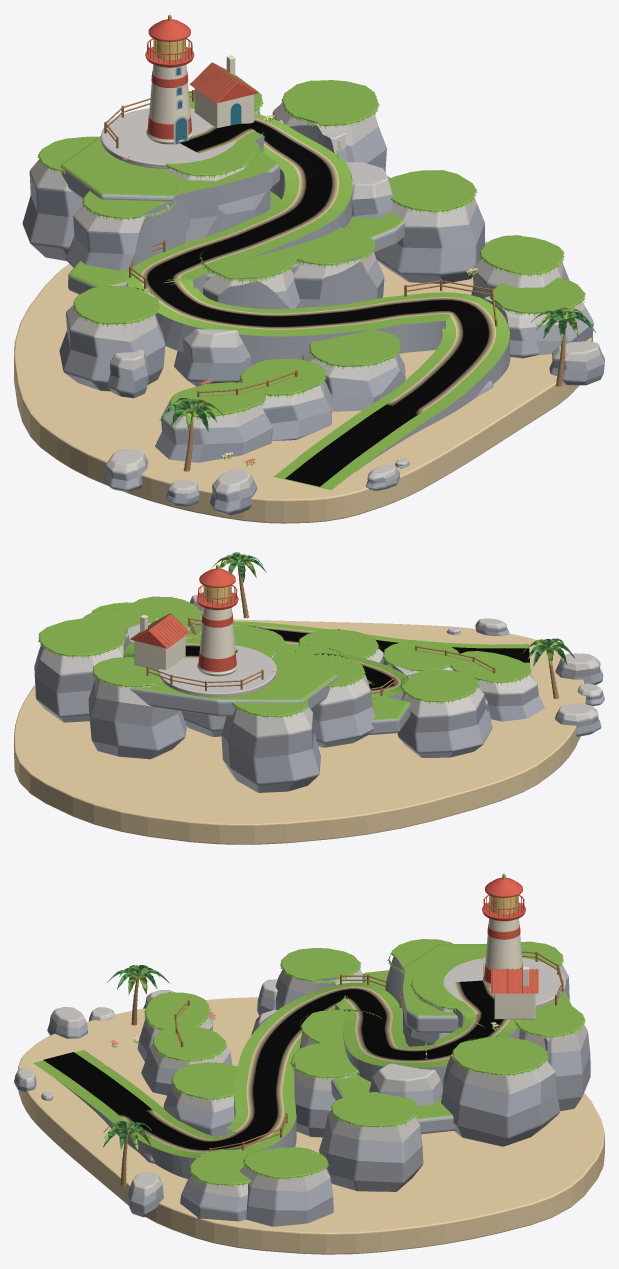
File: CoastArchitecture.fbx
3 views of the same model, one above another, from view 1: azimuth 30°, elevation 25°; view 2: azimuth 150°, elevation 25°; view 3: azimuth 270°, elevation 25° (orthographic). The views are drawn at different scales.
Visible parts, largest first — view 1: Beach sand foundation, Sandy mountain footpath, Natural grass shoulders, Upper meadow, Cliff • Eastern wall, Cliff • Upper shoulder, Cliff • Mid left, Cliff • Foreland left, Cliff • Rear left, Cliff • Mid right, Lighthouse dressed stone podium, Cliff • Upper east mossy grass crown (+34 smaller); view 2: Beach sand foundation, Cliff • Rear left, Cliff • Rear east, Upper meadow, Cliff • Mid left, Cliff • Upper east, Lighthouse dressed stone podium, Cliff • Upper shoulder, Cliff • Upper east mossy grass crown, Natural grass shoulders, Cliff • Foreland left, Sandy mountain footpath (+23 smaller); view 3: Beach sand foundation, Sandy mountain footpath, Natural grass shoulders, Cliff • Upper east, Cliff • Eastern wall, Cliff • Eastern toe, Upper meadow, Cliff • Rear east, Cliff • Upper east mossy grass crown, Cliff • Eastern wall mossy grass crown, Cliff • Foreland right, Cliff • Foreland inner (+28 smaller).
Part boxes in pixels (x1,y1,x2,y2): Beach sand foundation: [14, 241, 592, 523]; Sandy mountain footpath: [140, 118, 495, 486]; Natural grass shoulders: [126, 113, 510, 490]; Upper meadow: [60, 109, 279, 211]; Cliff • Eastern wall: [374, 197, 484, 284]; Cliff • Upper shoulder: [65, 204, 185, 270]; Cliff • Mid left: [59, 305, 165, 391]; Cliff • Foreland left: [155, 403, 272, 462]; Cliff • Rear left: [22, 159, 83, 261]; Cliff • Mid right: [293, 251, 384, 307]; Lighthouse dressed stone podium: [101, 108, 236, 168]; Cliff • Upper east mossy grass crown: [282, 80, 378, 125]; Beach sand foundation: [14, 619, 585, 844]; Cliff • Rear left: [221, 707, 320, 792]; Cliff • Rear east: [88, 677, 186, 759]; Upper meadow: [130, 641, 337, 716]; Cliff • Mid left: [397, 687, 492, 757]; Cliff • Upper east: [34, 635, 125, 722]; Lighthouse dressed stone podium: [158, 645, 276, 697]; Cliff • Upper shoulder: [311, 675, 375, 747]; Cliff • Upper east mossy grass crown: [39, 618, 126, 656]; Natural grass shoulders: [123, 621, 530, 699]; Cliff • Foreland left: [453, 670, 544, 721]; Sandy mountain footpath: [183, 625, 529, 692]; Beach sand foundation: [18, 997, 604, 1254]; Sandy mountain footpath: [43, 980, 509, 1152]; Natural grass shoulders: [33, 982, 521, 1178]; Cliff • Upper east: [441, 1060, 560, 1146]; Cliff • Eastern wall: [319, 1110, 423, 1191]; Cliff • Eastern toe: [239, 1165, 333, 1226]; Upper meadow: [403, 944, 571, 1051]; Cliff • Rear east: [519, 1023, 590, 1110]; Cliff • Upper east mossy grass crown: [453, 1036, 547, 1074]; Cliff • Eastern wall mossy grass crown: [331, 1092, 417, 1126]; Cliff • Foreland right: [180, 1174, 247, 1221]; Cliff • Foreland inner: [163, 1084, 234, 1136].
Size of the model in its own units: 51.66 by 26.37 by 54.37.
